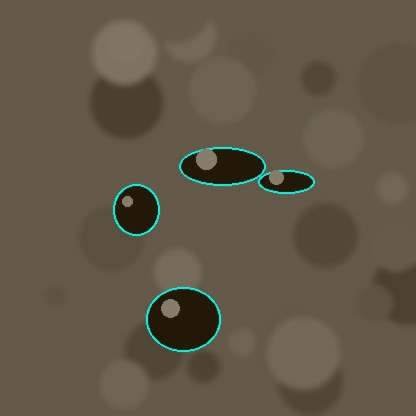gota: (146, 289, 220, 357), (179, 148, 265, 188), (113, 186, 159, 240), (258, 171, 314, 195)
